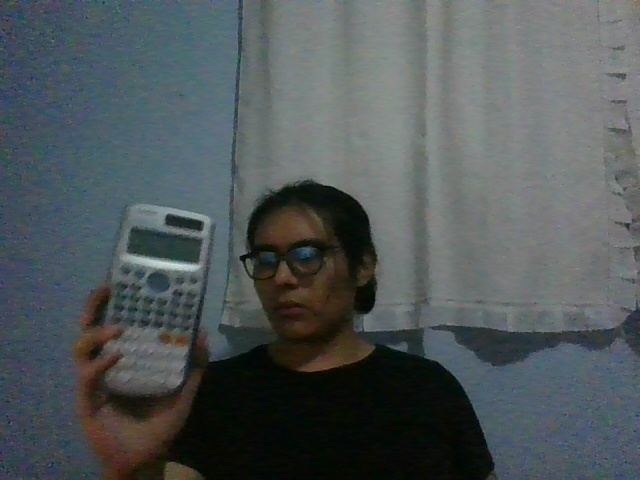calculadora: (95, 202, 216, 397)
